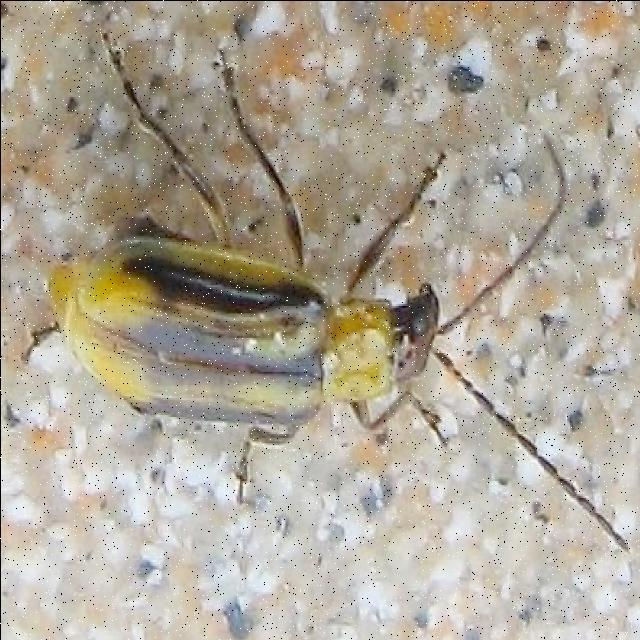trips: (20, 31, 630, 558)
